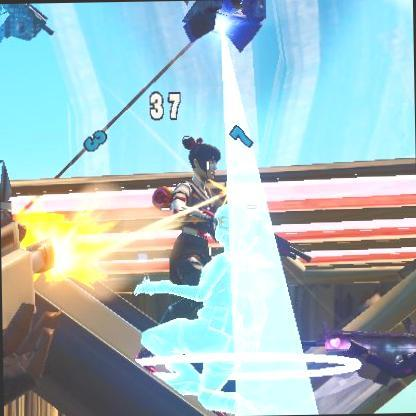person: (181, 136, 222, 200)
